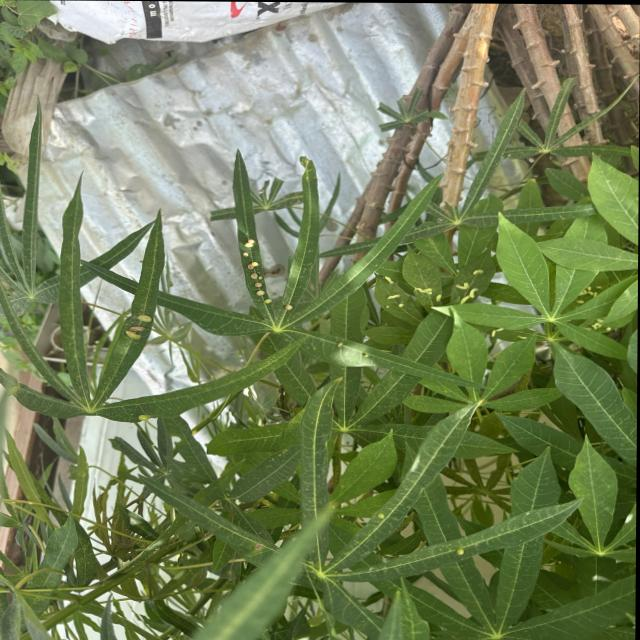Mosca: (445, 255, 477, 307), (243, 257, 273, 307), (410, 273, 447, 308), (378, 269, 406, 315), (574, 275, 607, 311), (124, 304, 148, 343), (479, 320, 509, 343), (237, 229, 258, 260), (122, 408, 150, 428), (372, 503, 395, 526), (592, 318, 616, 338), (323, 336, 345, 351), (282, 292, 296, 314), (452, 543, 469, 561)
